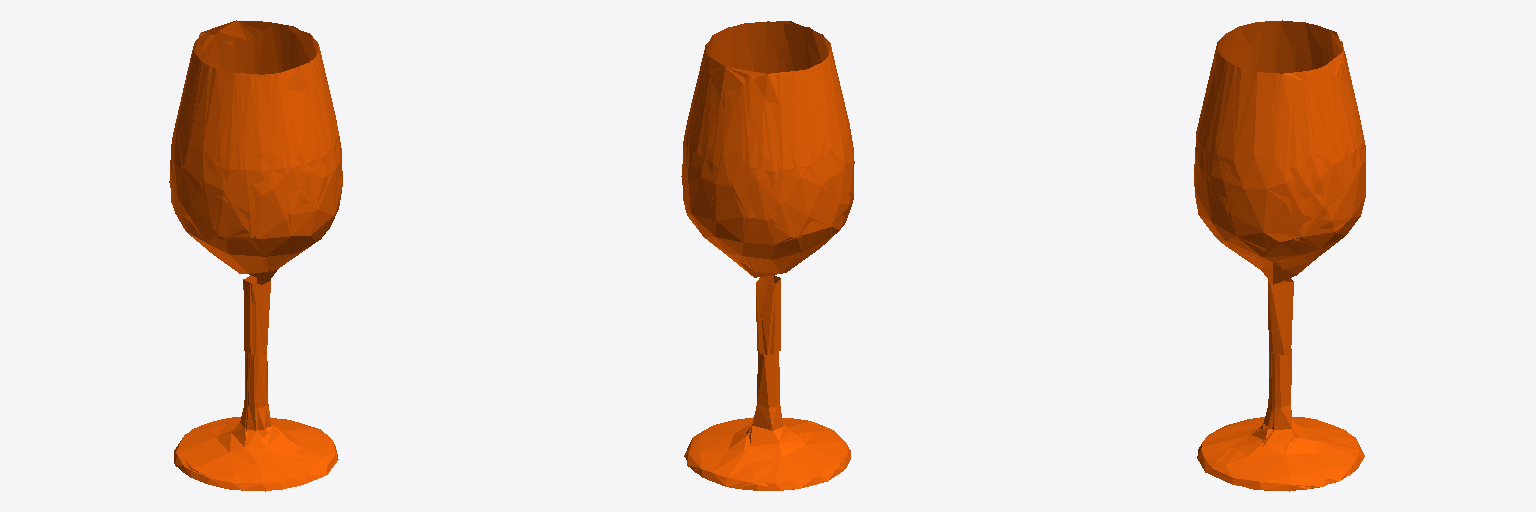
The robot description file, URDF, robot "WineGlass_9d506eb0e13514e167816b64852d28f":
<?xml version="1.0" ?>
<robot name="WineGlass_9d506eb0e13514e167816b64852d28f">
   <material name="obj_color">
      <color rgba="1.0 0.423529411765 0.0392156862745 1.0"/>
   </material>
   <link name="top">
      <inertial>
         <origin rpy="0.0001226940354158523 0.000282609198950321 0.0002826092389609562" xyz="-3.301651292320503e-05 3.607221329351986e-05 0.02943918737173502"/>
         <mass value="0.2781176044929752"/>
         <inertia ixx="0.0002826092388994643" ixy="-1.565575551608545e-12" ixz="1.39081826441803e-10" iyy="0.0002826091990112822" iyz="-2.559812503276712e-10" izz="0.000122694035416383"/>
      </inertial>
      <visual>
         <origin rpy="0 0 0" xyz="0 0 0"/>
         <geometry>
            <mesh filename="top_watertight_tiny.stl" scale="1 1 1"/>
         </geometry>
         <material name="obj_color"/>
      </visual>
      <collision>
         <origin rpy="0 0 0" xyz="0 0 0"/>
         <geometry>
            <mesh filename="top_watertight_tiny.obj" scale="1 1 1"/>
         </geometry>
      </collision>
   </link>
   <link name="bottom">
      <inertial>
         <origin rpy="1.768054496576204e-05 1.776910809848932e-05 2.15804764142487e-05" xyz="-3.455871266692555e-05 5.374228474435096e-05 -0.08413339155808579"/>
         <mass value="0.06426464392164269"/>
         <inertia ixx="1.768075347835804e-05" ixy="-4.292207178927698e-09" ixz="-7.967281663599753e-11" iyy="1.776889974071943e-05" iyz="7.640631684795951e-10" izz="2.15804762594226e-05"/>
      </inertial>
      <visual>
         <origin rpy="0 0 0" xyz="0 0 0"/>
         <geometry>
            <mesh filename="bottom_watertight_tiny.stl" scale="1 1 1"/>
         </geometry>
         <material name="obj_color"/>
      </visual>
      <collision>
         <origin rpy="0 0 0" xyz="0 0 0"/>
         <geometry>
            <mesh filename="bottom_watertight_tiny.obj" scale="1 1 1"/>
         </geometry>
      </collision>
   </link>
   <joint name="rotation" type="revolute">
      <origin xyz="0 0 0"/>
      <axis xyz="0 0 -1"/>
      <parent link="bottom"/>
      <child link="top"/>
      <dynamics damping="1.0" friction="1.0"/>
      <limit effort="0.1" velocity="0.1" lower="0" upper="0.001"/>
   </joint>
</robot>

--- Render facts (derived) ---
3 views of the same robot in one strip: view 1: azimuth 30°, elevation 25°; view 2: azimuth 150°, elevation 25°; view 3: azimuth 270°, elevation 25° (orthographic).
Robot: WineGlass_9d506eb0e13514e167816b64852d28f — 2 links, 1 joints (1 revolute); root link bottom; default pose: every joint at zero.
Links seen in each view (by area): view 1: top, bottom; view 2: top, bottom; view 3: top, bottom.
Boxes of the visible links, left/top/right/bottom form: top: left=169, top=20, right=342, bottom=354; bottom: left=174, top=352, right=338, bottom=491; top: left=681, top=21, right=854, bottom=355; bottom: left=684, top=352, right=850, bottom=490; top: left=1194, top=20, right=1365, bottom=354; bottom: left=1197, top=349, right=1364, bottom=491.
Bounding box of the posed robot: 0.0672 × 0.0673 × 0.1792 m (x, y, z).
2 mesh visuals loaded from 2 distinct referenced files (2 binary STL).